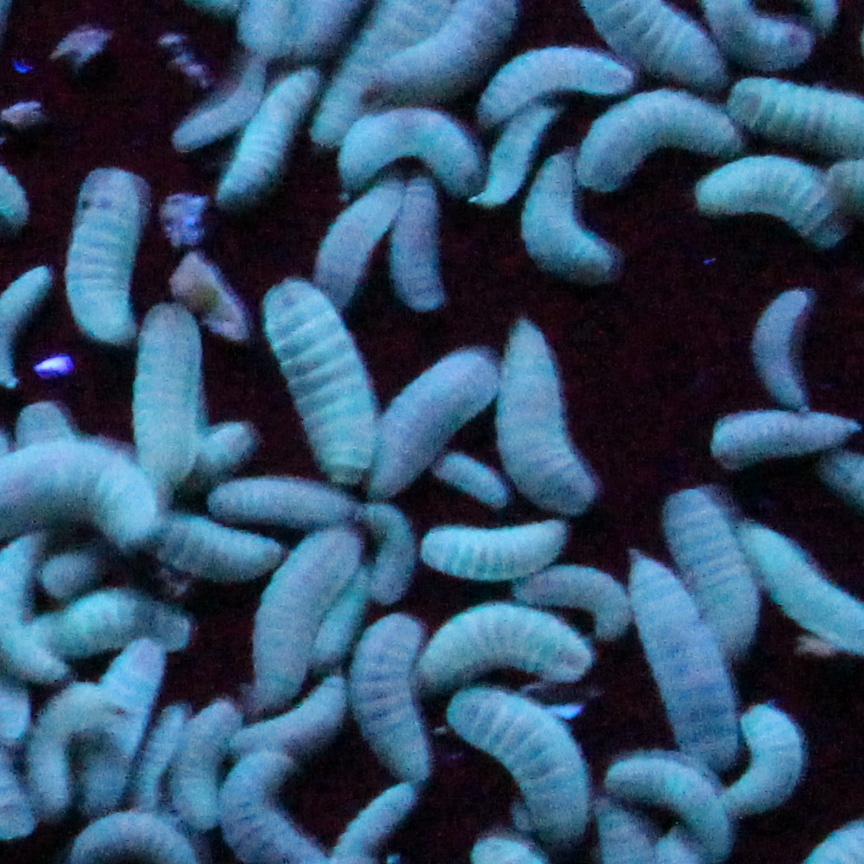larve: (611, 559, 758, 774), (268, 286, 396, 484), (371, 356, 523, 514), (501, 321, 616, 524), (451, 691, 608, 834), (248, 524, 356, 696), (668, 489, 771, 664), (516, 129, 628, 286), (73, 631, 168, 816), (586, 76, 736, 189), (346, 611, 441, 789), (128, 304, 206, 506), (211, 739, 328, 861), (78, 171, 156, 349), (488, 39, 643, 124), (601, 741, 723, 844), (308, 174, 406, 301), (421, 611, 593, 681), (696, 156, 841, 239), (161, 684, 246, 824), (433, 509, 598, 581), (348, 106, 486, 191), (231, 69, 313, 211), (393, 171, 458, 324), (753, 291, 823, 426), (728, 706, 808, 816), (356, 491, 431, 606), (531, 564, 643, 639), (476, 106, 546, 204), (183, 71, 263, 156), (708, 419, 858, 454), (193, 411, 263, 474)
